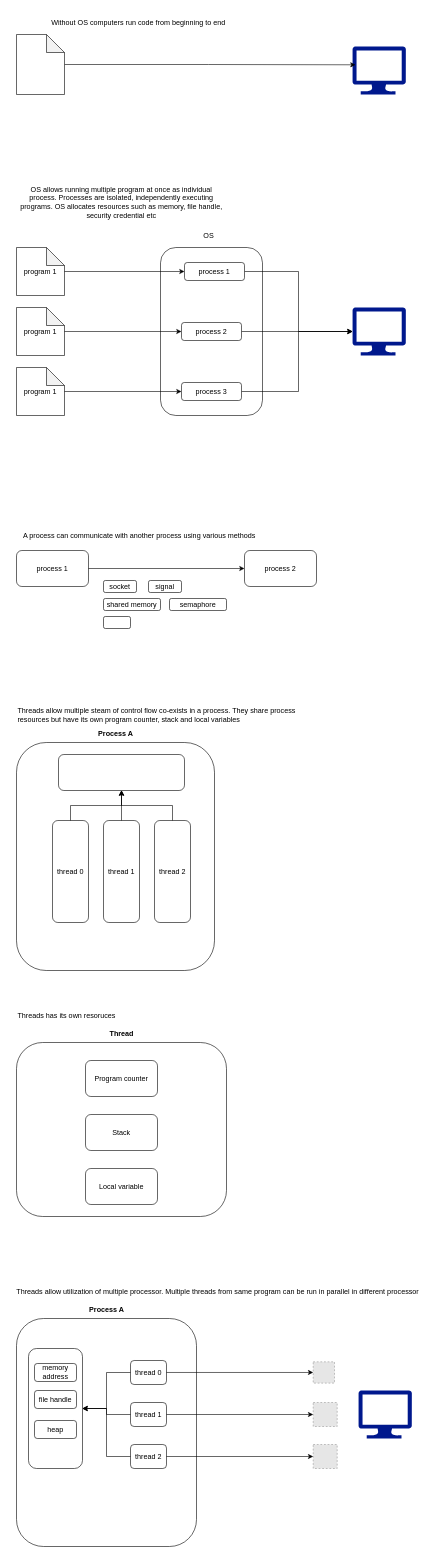
Some shapes in this 434 by 1557 pixel diagram are drawn without their labels. Grey dashed boxes stand in for pictures. The centre of each missing label's shape, as x and y in pixels:
"files" belongs at [116,622].
"program" belongs at [40,64].
"resources" belongs at [121,772].
